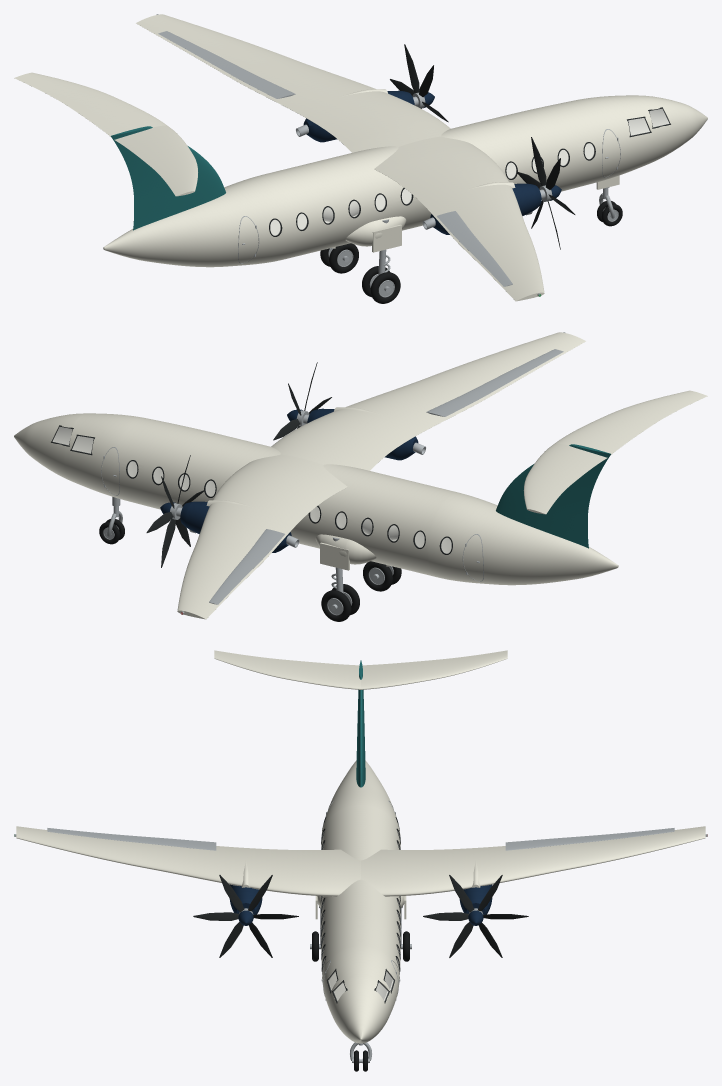
The model's file is innerscene-twin-turboprop.glb.
3 views of the same model, one above another, from view 1: azimuth 30°, elevation 25°; view 2: azimuth 150°, elevation 25°; view 3: azimuth 270°, elevation 25° (orthographic). The views are drawn at different scales.
Parts seen in each view (by area): view 1: Finite lofted fuselage with actual window apertures, Finite swept main wing 1, Finite swept main wing -1, Shaped seated vertical stabilizer, Finite horizontal stabilizer 1, Finite horizontal stabilizer -1, Seated finite aileron strip 1, Seated finite aileron strip -1, Main gear root fairing -1, Turboprop -1 shaped engine nacelle, Main gear finite door -1, Turboprop 1 shaped engine nacelle (+2 smaller); view 2: Finite lofted fuselage with actual window apertures, Finite swept main wing -1, Finite swept main wing 1, Shaped seated vertical stabilizer, Finite horizontal stabilizer -1, Finite horizontal stabilizer 1, Seated finite aileron strip -1, Seated finite aileron strip 1, Main gear root fairing 1, Turboprop 1 shaped engine nacelle, Main gear finite door 1, Turboprop -1 shaped engine nacelle (+2 smaller); view 3: Finite lofted fuselage with actual window apertures, Finite swept main wing -1, Finite swept main wing 1, Finite horizontal stabilizer 1, Finite horizontal stabilizer -1, Seated finite aileron strip 1, Seated finite aileron strip -1, Shaped seated vertical stabilizer.
Boxes of the visible parts, x1,y1,x2,y2 form: Finite lofted fuselage with actual window apertures: (103, 95, 707, 267); Finite swept main wing 1: (136, 14, 450, 152); Finite swept main wing -1: (374, 136, 544, 301); Shaped seated vertical stabilizer: (111, 126, 225, 230); Finite horizontal stabilizer 1: (14, 72, 166, 137); Finite horizontal stabilizer -1: (114, 125, 198, 196); Seated finite aileron strip 1: (158, 31, 295, 98); Seated finite aileron strip -1: (437, 211, 512, 286); Main gear root fairing -1: (345, 209, 406, 246); Turboprop -1 shaped engine nacelle: (430, 183, 541, 234); Main gear finite door -1: (372, 224, 401, 252); Turboprop 1 shaped engine nacelle: (303, 90, 414, 142); Finite lofted fuselage with actual window apertures: (14, 413, 618, 585); Finite swept main wing -1: (271, 332, 585, 470); Finite swept main wing 1: (177, 454, 347, 619); Shaped seated vertical stabilizer: (496, 444, 610, 548); Finite horizontal stabilizer -1: (555, 390, 707, 455); Finite horizontal stabilizer 1: (523, 443, 607, 514); Seated finite aileron strip -1: (426, 349, 563, 416); Seated finite aileron strip 1: (209, 529, 284, 604); Main gear root fairing 1: (315, 527, 376, 564); Turboprop 1 shaped engine nacelle: (180, 501, 291, 552); Main gear finite door 1: (320, 542, 349, 570); Turboprop -1 shaped engine nacelle: (307, 408, 418, 460); Finite lofted fuselage with actual window apertures: (321, 760, 400, 1043); Finite swept main wing -1: (16, 826, 360, 896); Finite swept main wing 1: (361, 826, 705, 896); Finite horizontal stabilizer 1: (361, 650, 507, 689); Finite horizontal stabilizer -1: (214, 650, 360, 689); Seated finite aileron strip 1: (505, 828, 674, 850); Seated finite aileron strip -1: (47, 828, 216, 850); Shaped seated vertical stabilizer: (356, 660, 365, 787).
Bounding box in the file's own units: 22.33 × 7.44 × 24.16.
10 materials, 10 textured.
